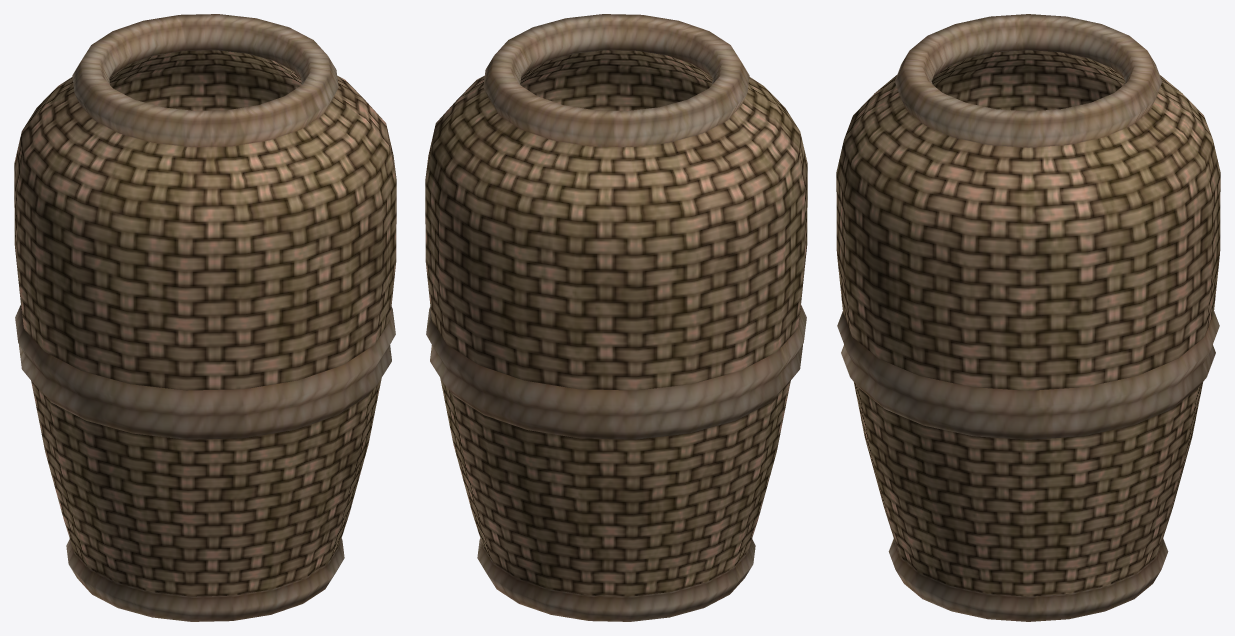
File: village_wicker_basket_08.fbx
3 views of the same model, side by side, from view 1: azimuth 30°, elevation 25°; view 2: azimuth 150°, elevation 25°; view 3: azimuth 270°, elevation 25° (orthographic).
Parts seen in each view (by area): view 1: village_wicker_basket_08; view 2: village_wicker_basket_08; view 3: village_wicker_basket_08.
Part boxes in pixels (<box>): village_wicker_basket_08: <box>14,14,396,621</box>; village_wicker_basket_08: <box>425,14,807,621</box>; village_wicker_basket_08: <box>836,14,1220,621</box>.
Bounding box in the file's own units: 33.92 × 48.78 × 33.92.
